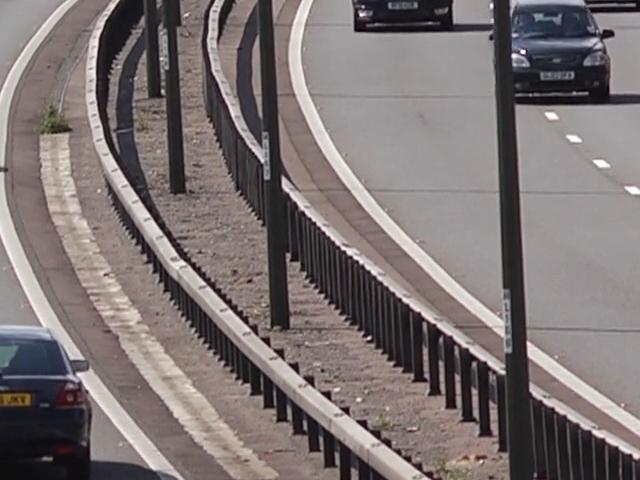car: (0, 316, 91, 480), (498, 0, 623, 98), (353, 0, 463, 28)
